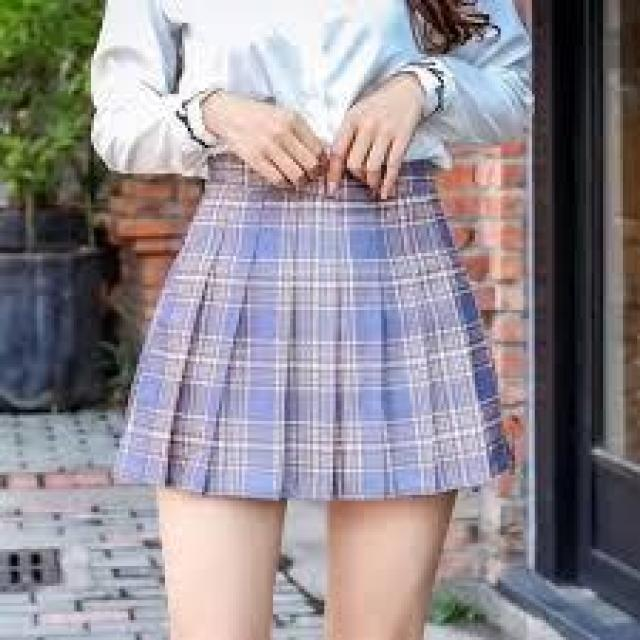skirt: (122, 144, 501, 502)
